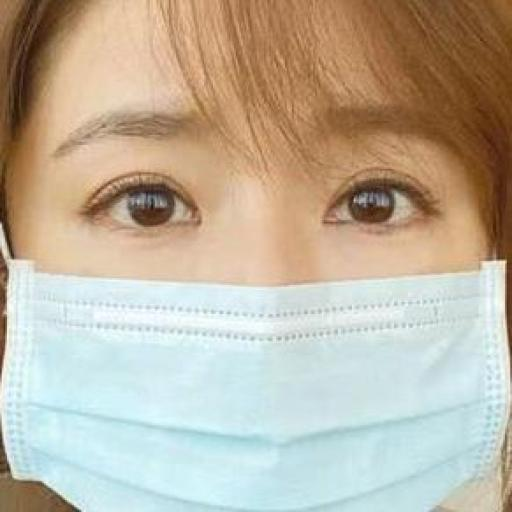mask: (0, 58, 512, 503)
